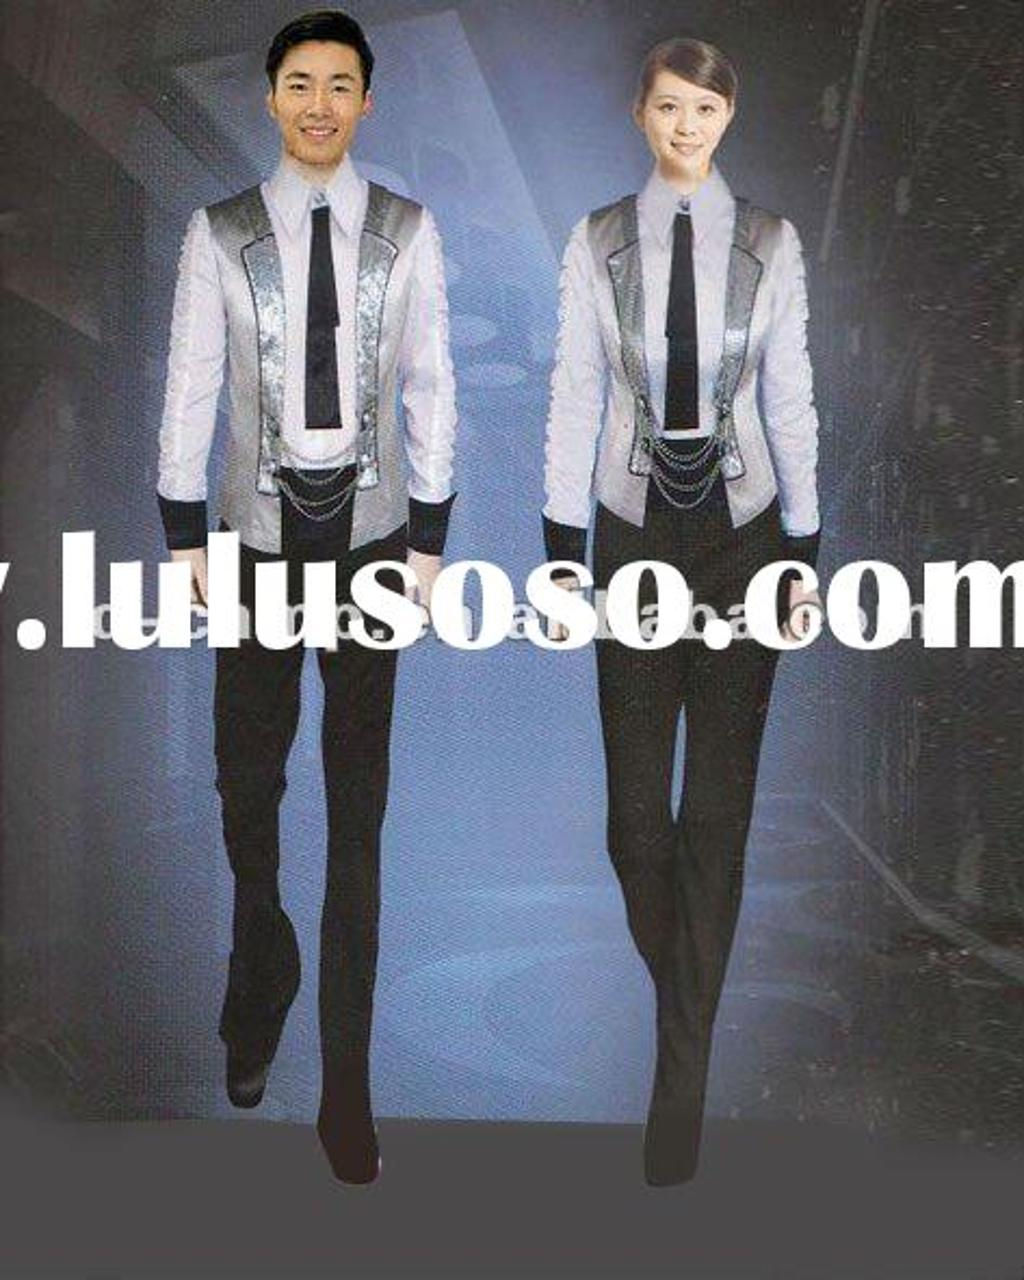face: (270, 42, 367, 157), (644, 72, 724, 174)
